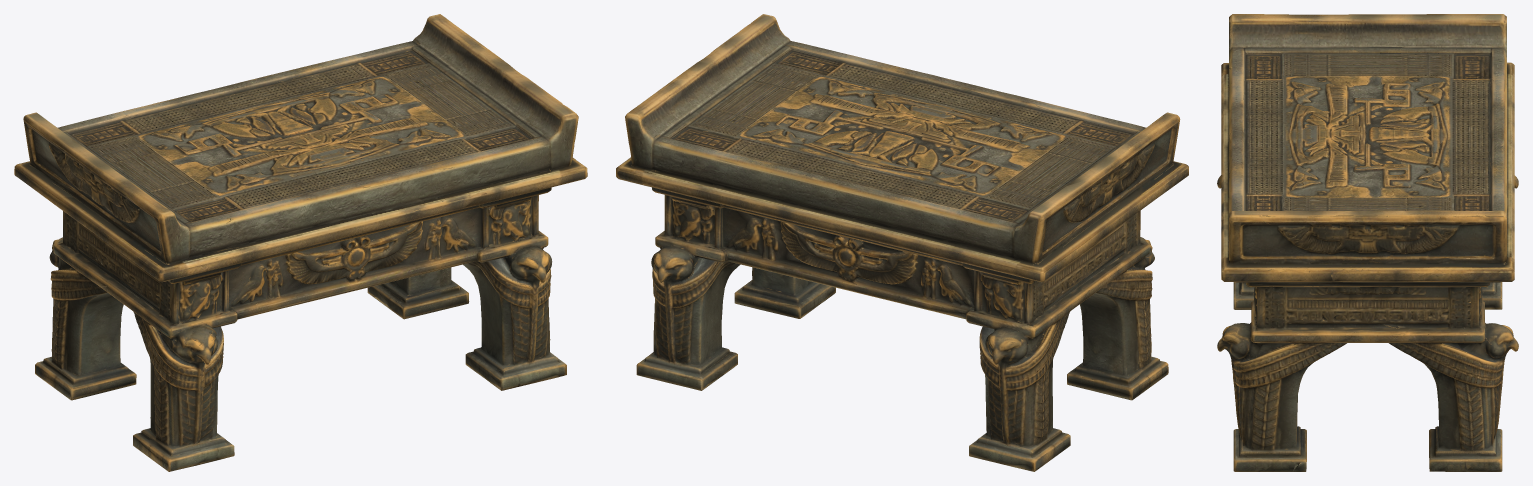
The model's file is WF_EgyptianTombV2_OfferingTable.fbx.
The picture shows the model from 3 angles, left to right: view 1: azimuth 30°, elevation 25°; view 2: azimuth 150°, elevation 25°; view 3: azimuth 270°, elevation 25°; orthographic projection.
Visible parts, largest first — view 1: Mesh1.0; view 2: Mesh1.0; view 3: Mesh1.0.
Part boxes in pixels (bbox=[...]): Mesh1.0: bbox=[14, 14, 587, 471]; Mesh1.0: bbox=[616, 14, 1188, 471]; Mesh1.0: bbox=[1217, 14, 1518, 471].
Size of the model in its own units: 191 by 111 by 117.
1 material, 1 textured.
